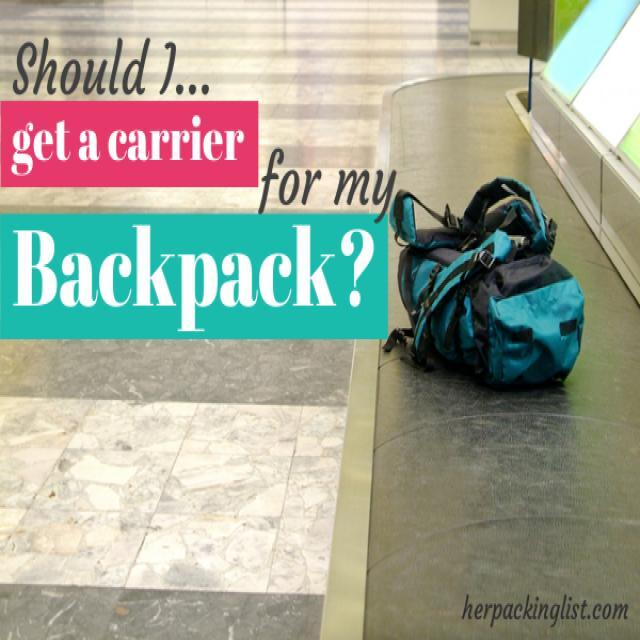Backpacks: (394, 179, 592, 400)
